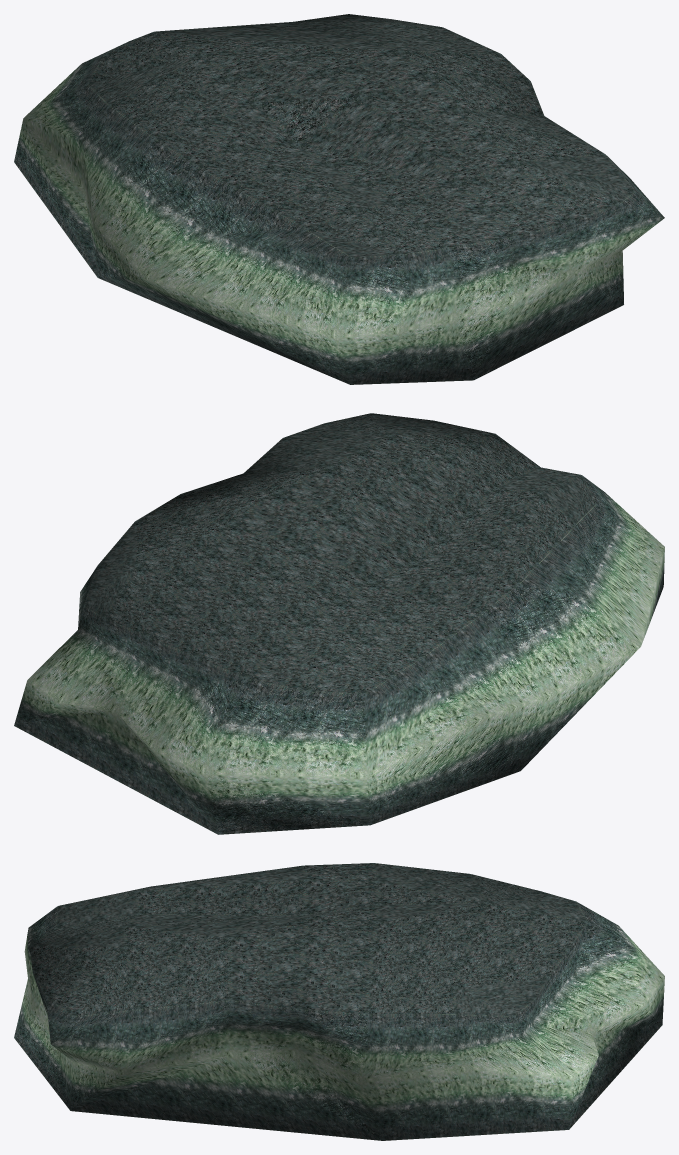
File: rock_beach_dark_lg_a1_l0.fbx
3 renders of one model, top to bottom at view 1: azimuth 30°, elevation 25°; view 2: azimuth 150°, elevation 25°; view 3: azimuth 270°, elevation 25°, orthographic. The views are drawn at different scales.
Visible parts, largest first — view 1: mesh_node; view 2: mesh_node; view 3: mesh_node.
Part boxes in pixels (left/top/right/bottom): mesh_node: left=14, top=14, right=664, bottom=384; mesh_node: left=14, top=413, right=664, bottom=834; mesh_node: left=14, top=863, right=664, bottom=1140.
Size of the model in its own units: 17.94 by 6.75 by 25.22.
